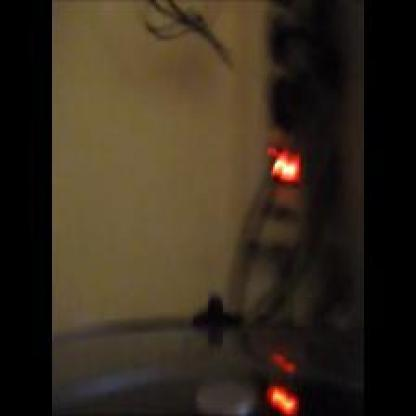other: (258, 355, 316, 410), (263, 140, 317, 184)
